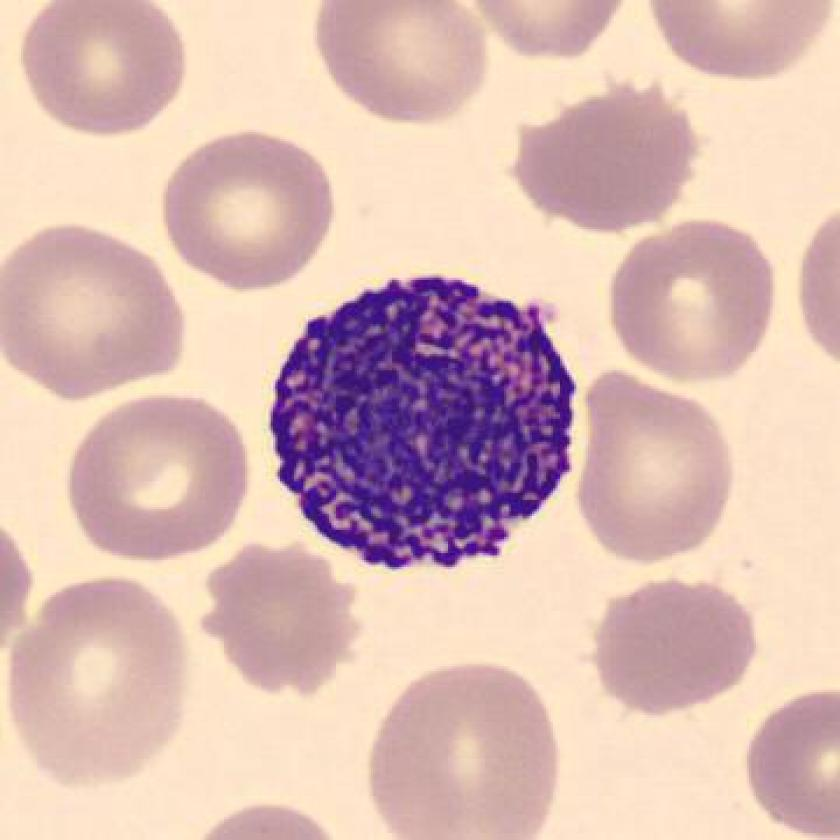basophil: (258, 258, 594, 575)
